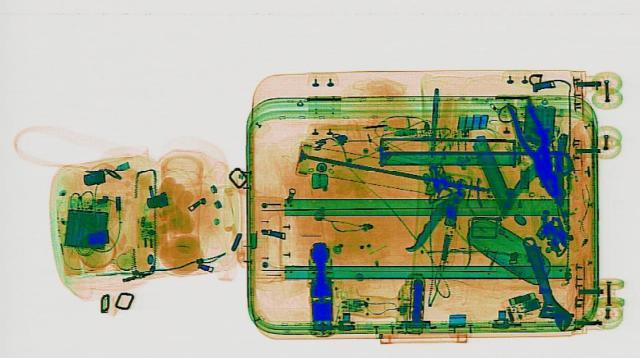Pliers: (500, 99, 576, 203)
Wrench: (510, 233, 580, 330)
